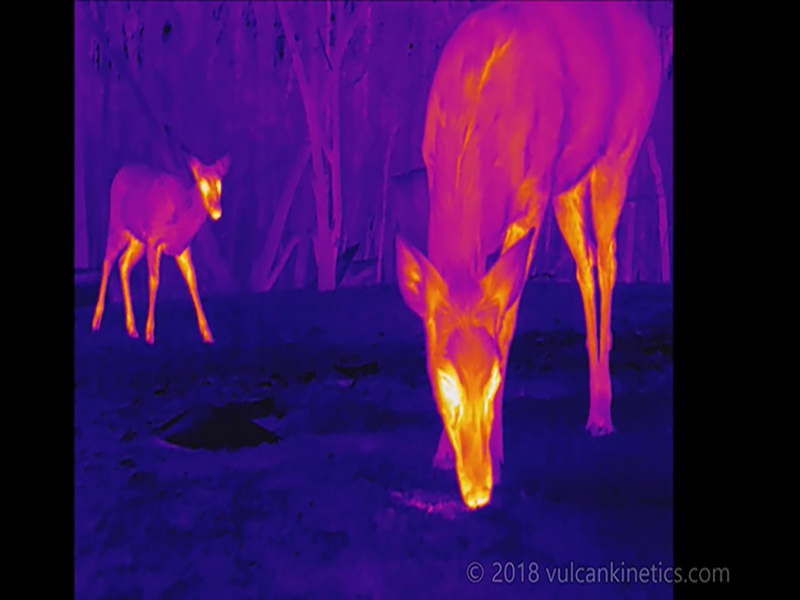cinghiale: (395, 1, 664, 486), (89, 154, 230, 336)
